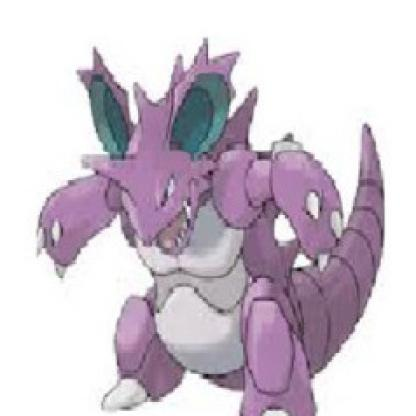Nidoking: (47, 34, 388, 415)
